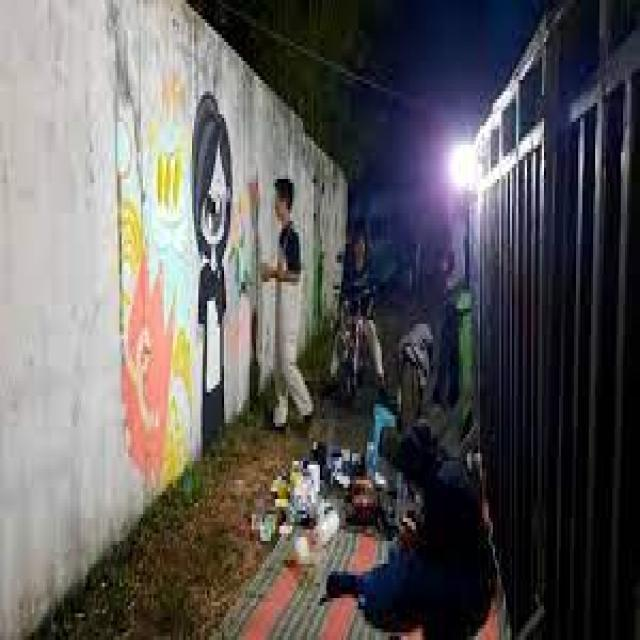-: (119, 68, 193, 484), (192, 95, 231, 452), (232, 176, 263, 358)
